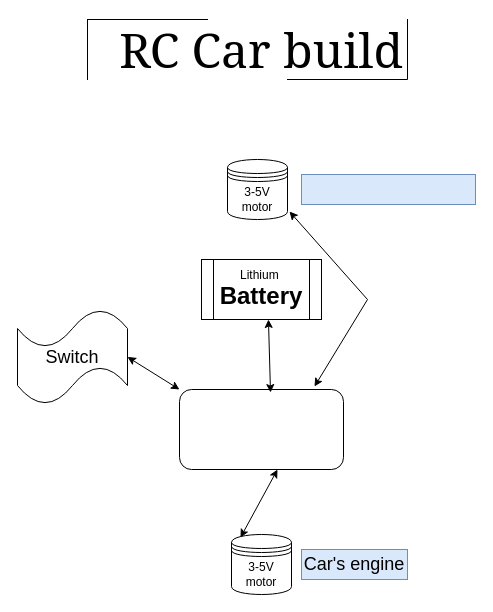
Some shapes in this 493 by 612 pixel diagram are drawn without their labels. The box of each missing label's shape, as (x1, y1, x2, y2) in pixels:
For steering the car: (300, 174, 476, 204)
Reciever Rx: (178, 388, 344, 470)
